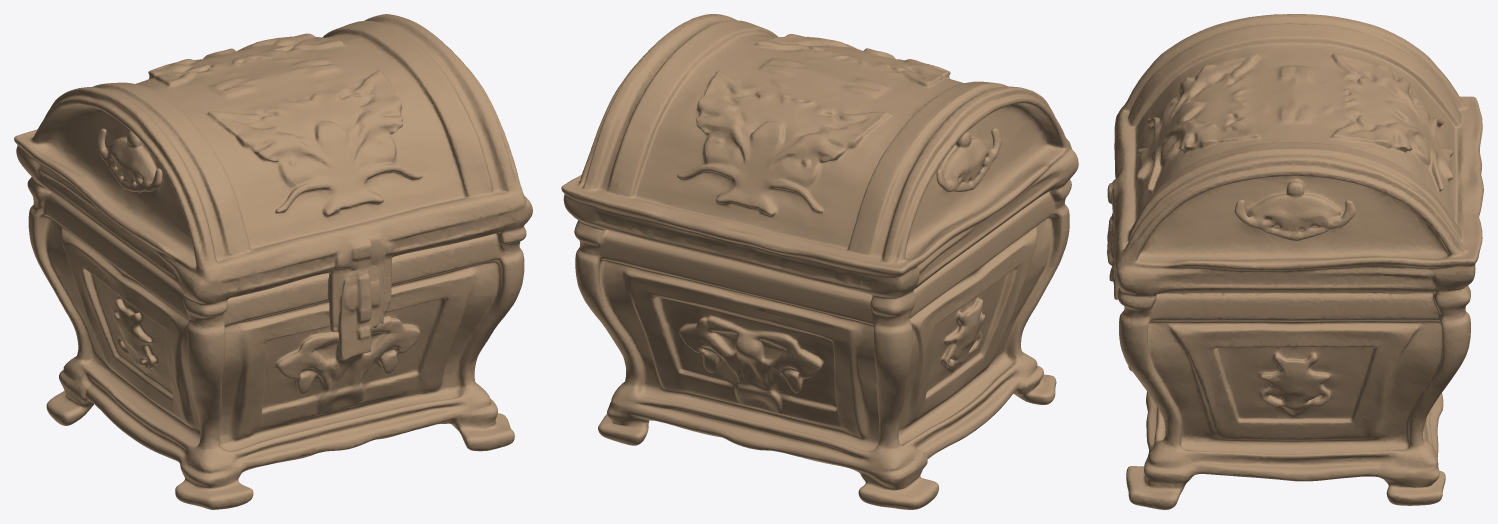
The model's file is chest.glb.
The picture shows the model from 3 angles, left to right: view 1: azimuth 30°, elevation 25°; view 2: azimuth 150°, elevation 25°; view 3: azimuth 270°, elevation 25°; orthographic projection. The views are drawn at different scales.
Parts seen in each view (by area): view 1: world; view 2: world; view 3: world.
Part boxes in pixels (x1=…): world: x1=14, y1=14, x2=532, y2=509; world: x1=561, y1=14, x2=1078, y2=509; world: x1=1107, y1=14, x2=1483, y2=509.
Size of the model in its own units: 2 by 1.99 by 1.93.
